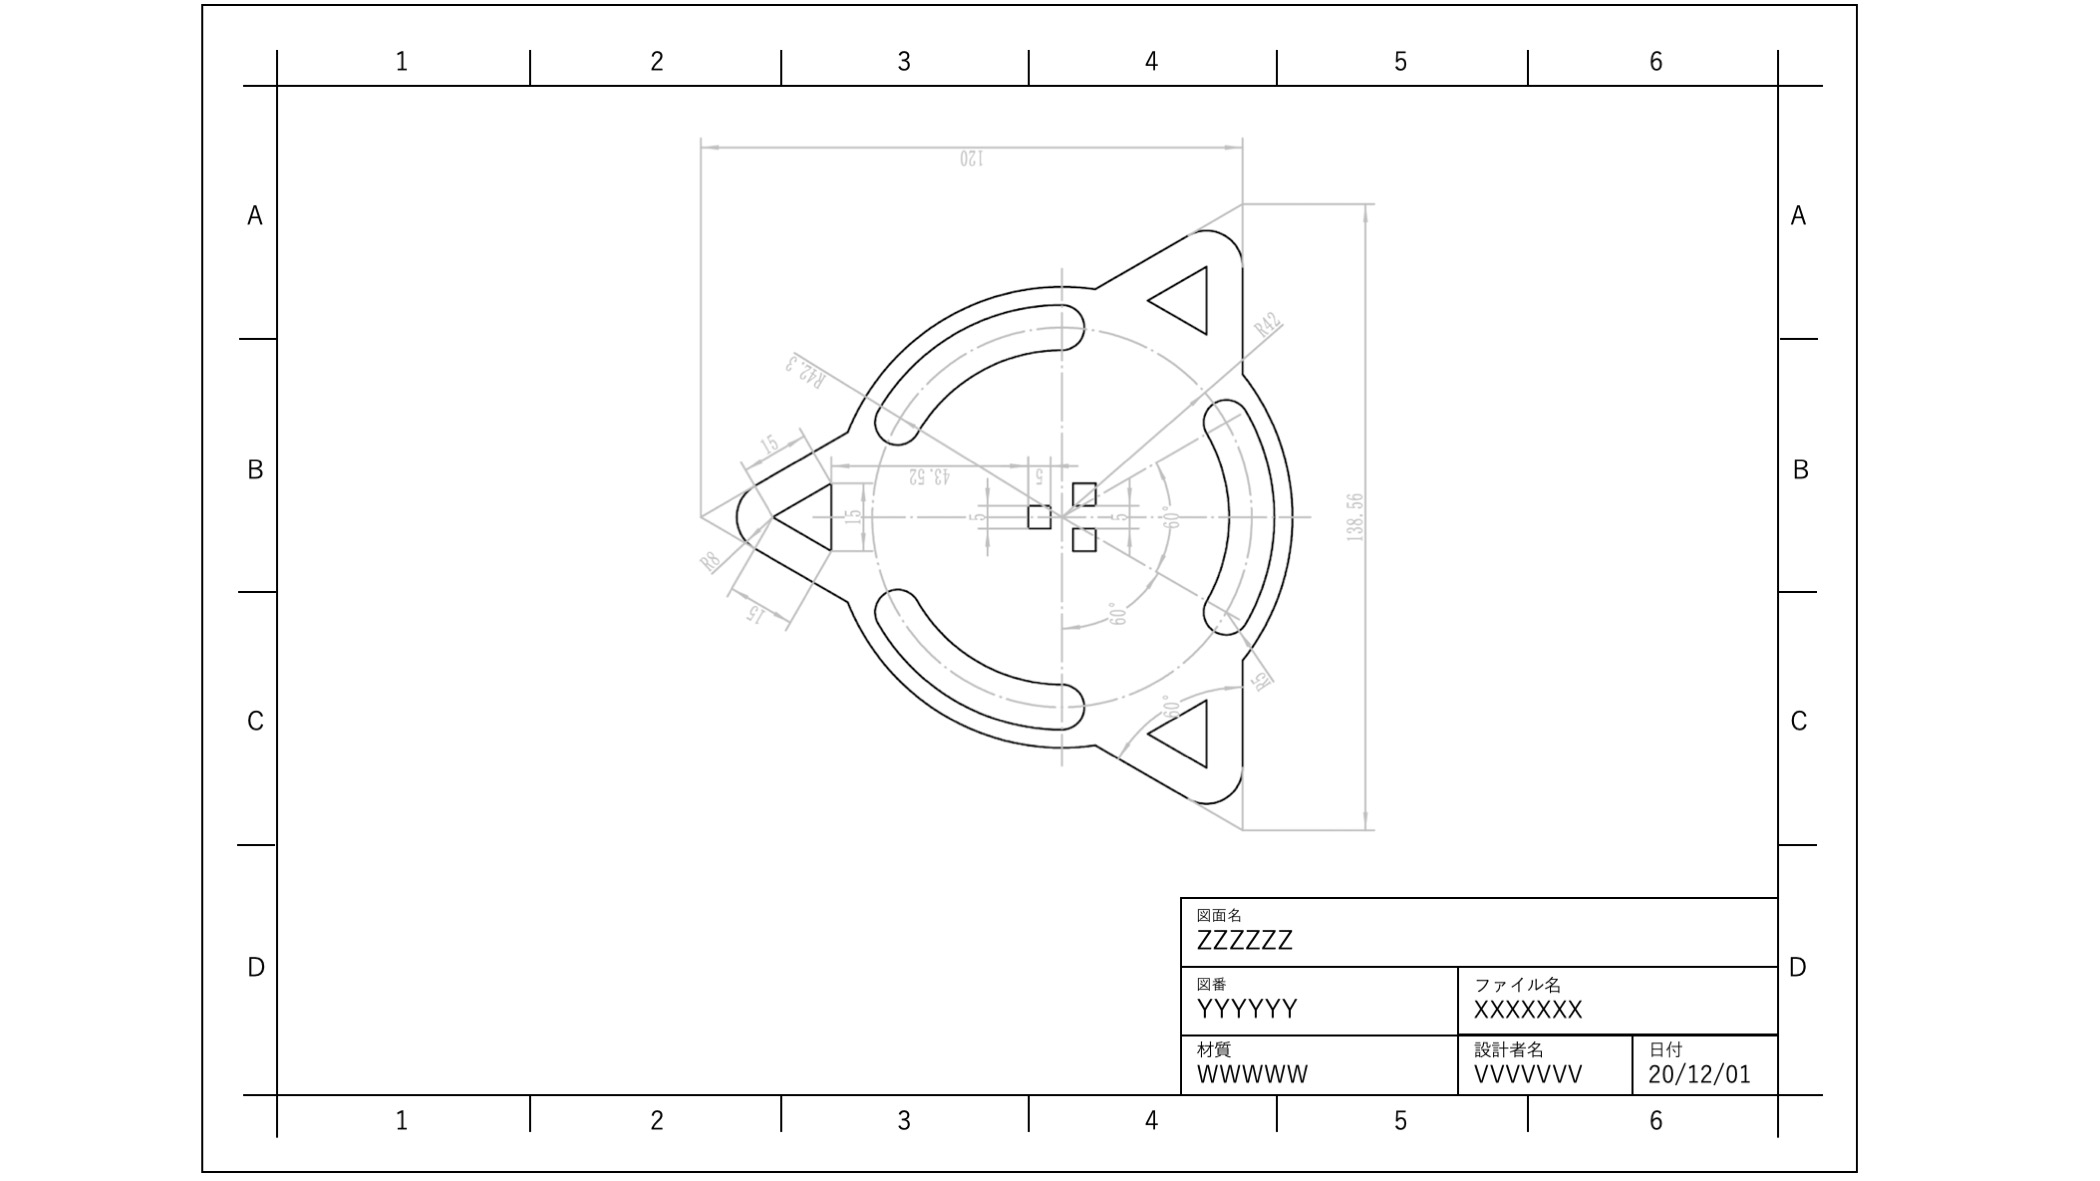rectangle: (1021, 496, 1051, 539), (1064, 523, 1109, 552), (1069, 477, 1109, 505)
round_rectangle: (865, 570, 1080, 753), (862, 280, 1080, 451), (1188, 384, 1279, 653)
triangle: (1139, 691, 1217, 777), (773, 469, 842, 561), (1145, 264, 1222, 337)
